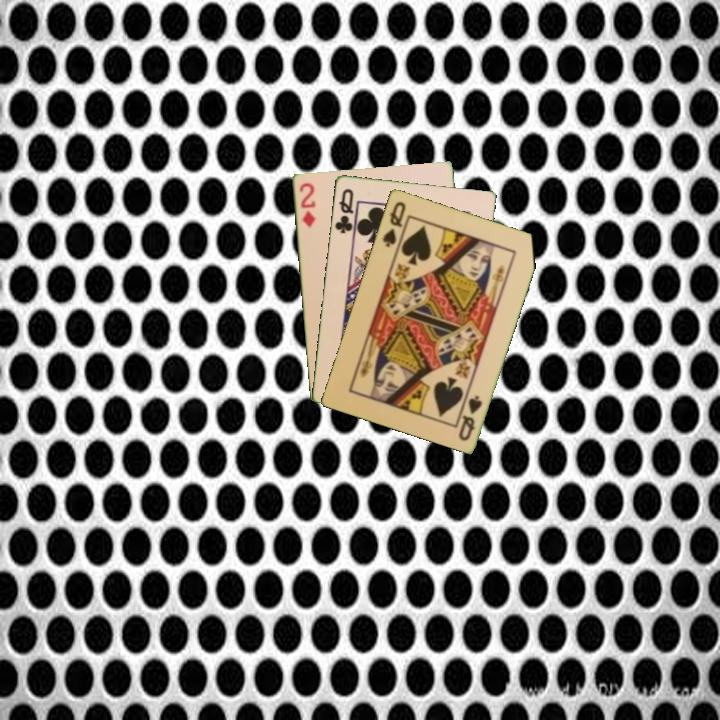2d: (296, 179, 318, 230)
Qc: (331, 185, 356, 236)
Qs: (379, 197, 408, 250), (455, 392, 485, 443)
